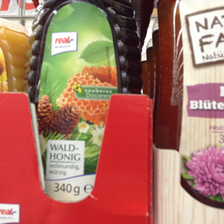honey: (31, 1, 137, 198)
